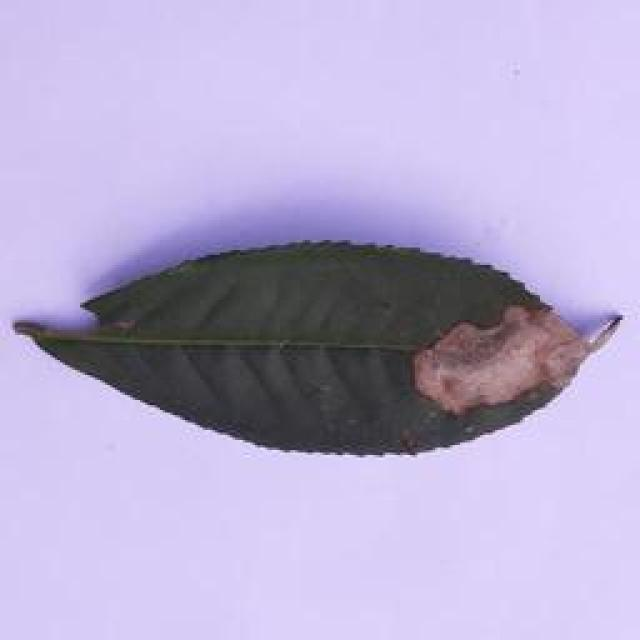Gray Blight: (9, 240, 631, 462)
